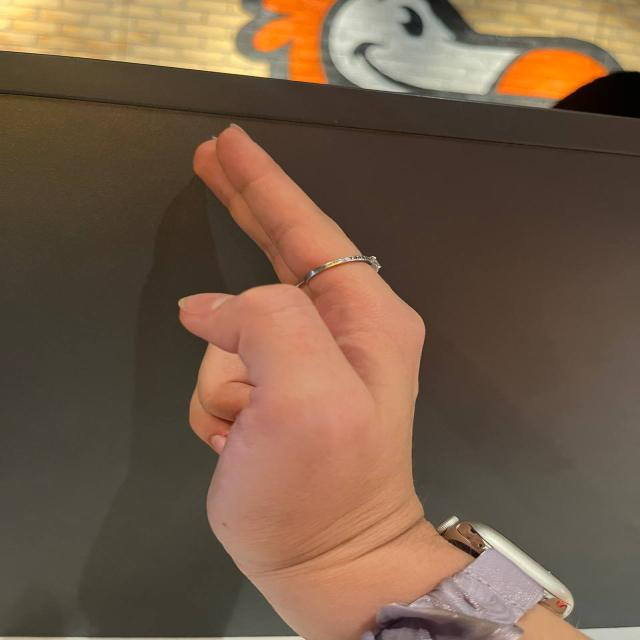d: (131, 80, 476, 562)
